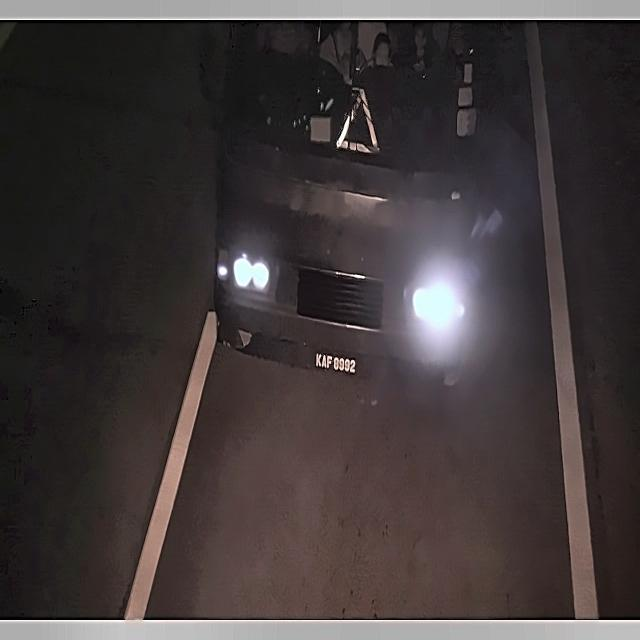car: (308, 348, 362, 378)
